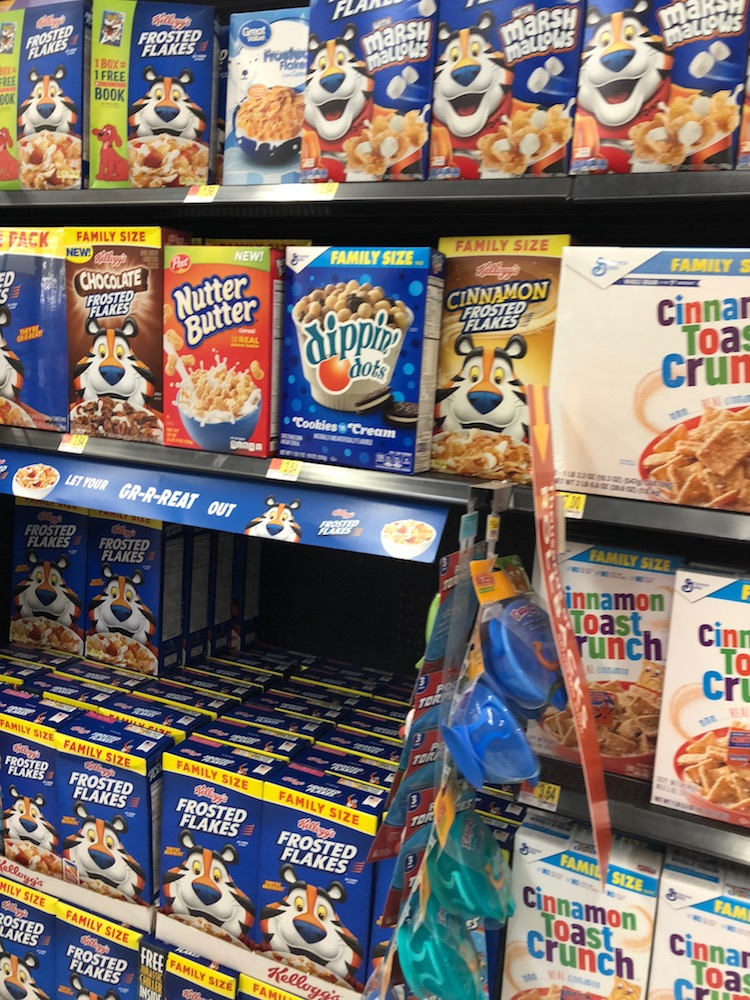Dippin Dots Cookies & Cream -568929378: (281, 239, 424, 463)
Nutter Butter-565717511: (157, 252, 272, 456)
